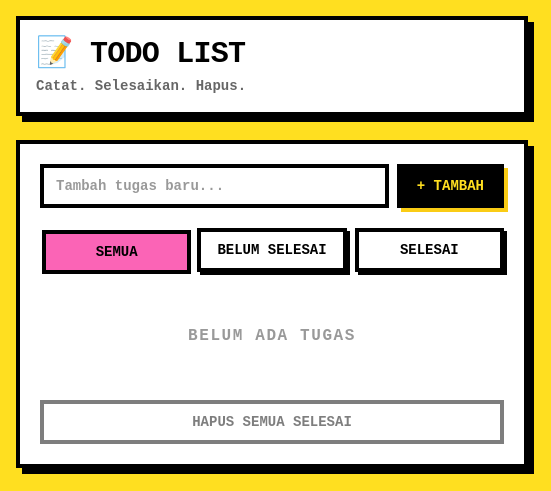
Test: App integration tests › delete task flow: click delete → task removed from list
Type "Task untuk dihapus" into the field named "judul tugas" at (214, 186), box [40,164,389,208]
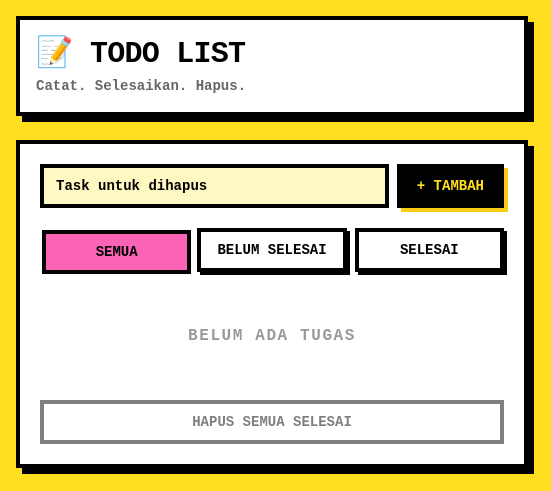
Click the button "+ Tambah" at (450, 186), box [397,164,504,208]
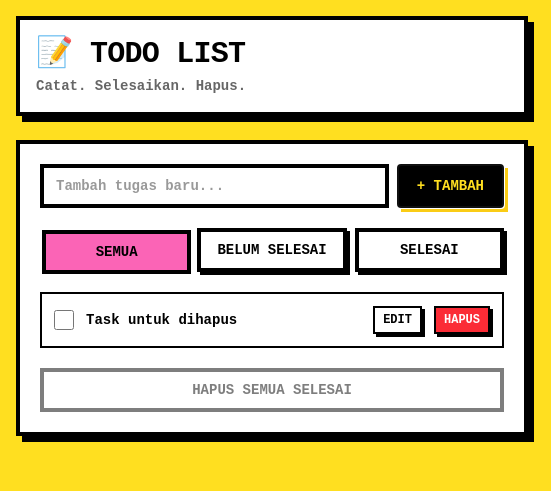
Expected: the text "Task untuk dihapus" is shown, [86,312,237,328]
Click the button "Hapus" at (462, 320), box [434,306,490,334]
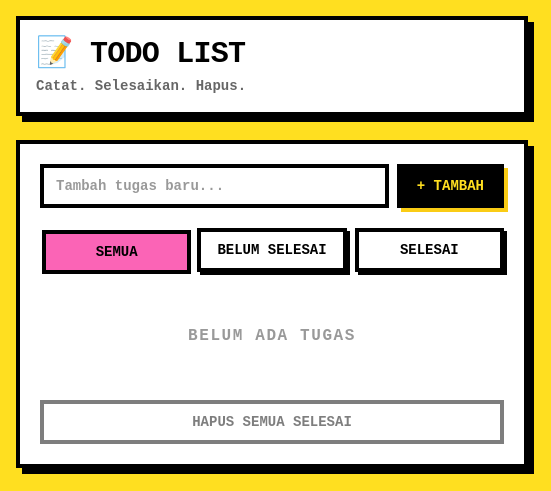
Expected: the text "Task untuk dihapus" is gone
